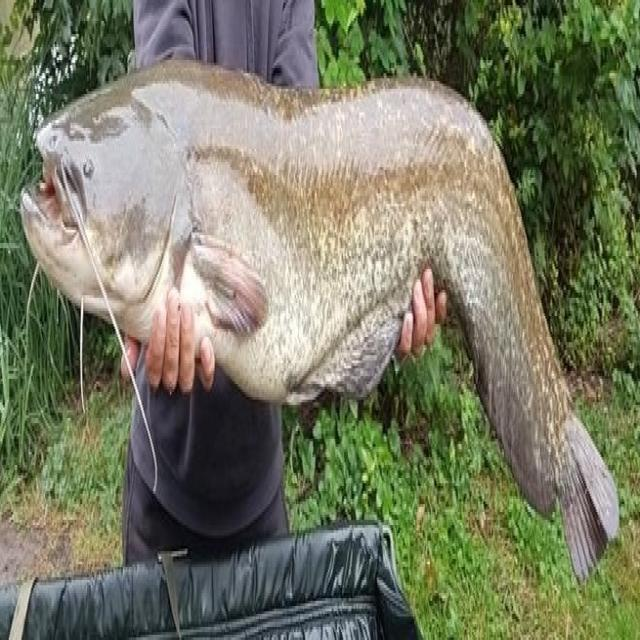Catfish: (14, 67, 629, 598), (6, 70, 604, 107)
